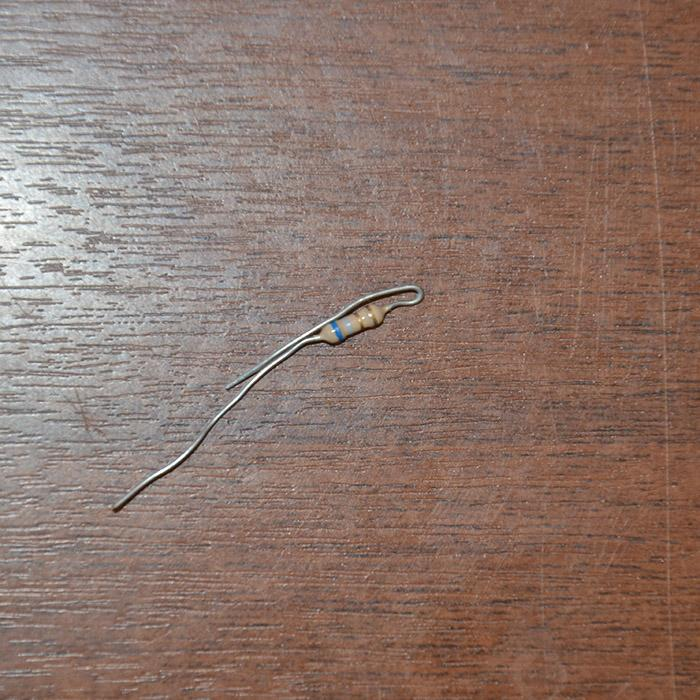resistor: (316, 302, 391, 347)
